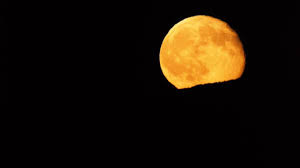moon: (157, 15, 247, 88)
